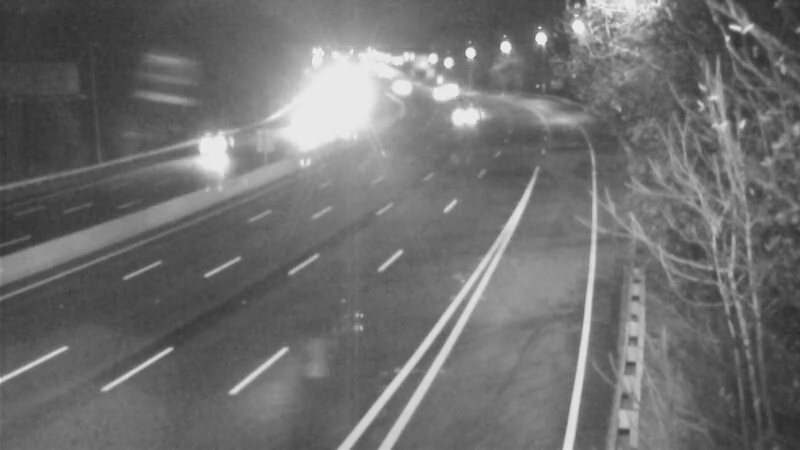vehicle: (413, 61, 463, 111), (440, 93, 490, 143), (190, 123, 240, 173)
